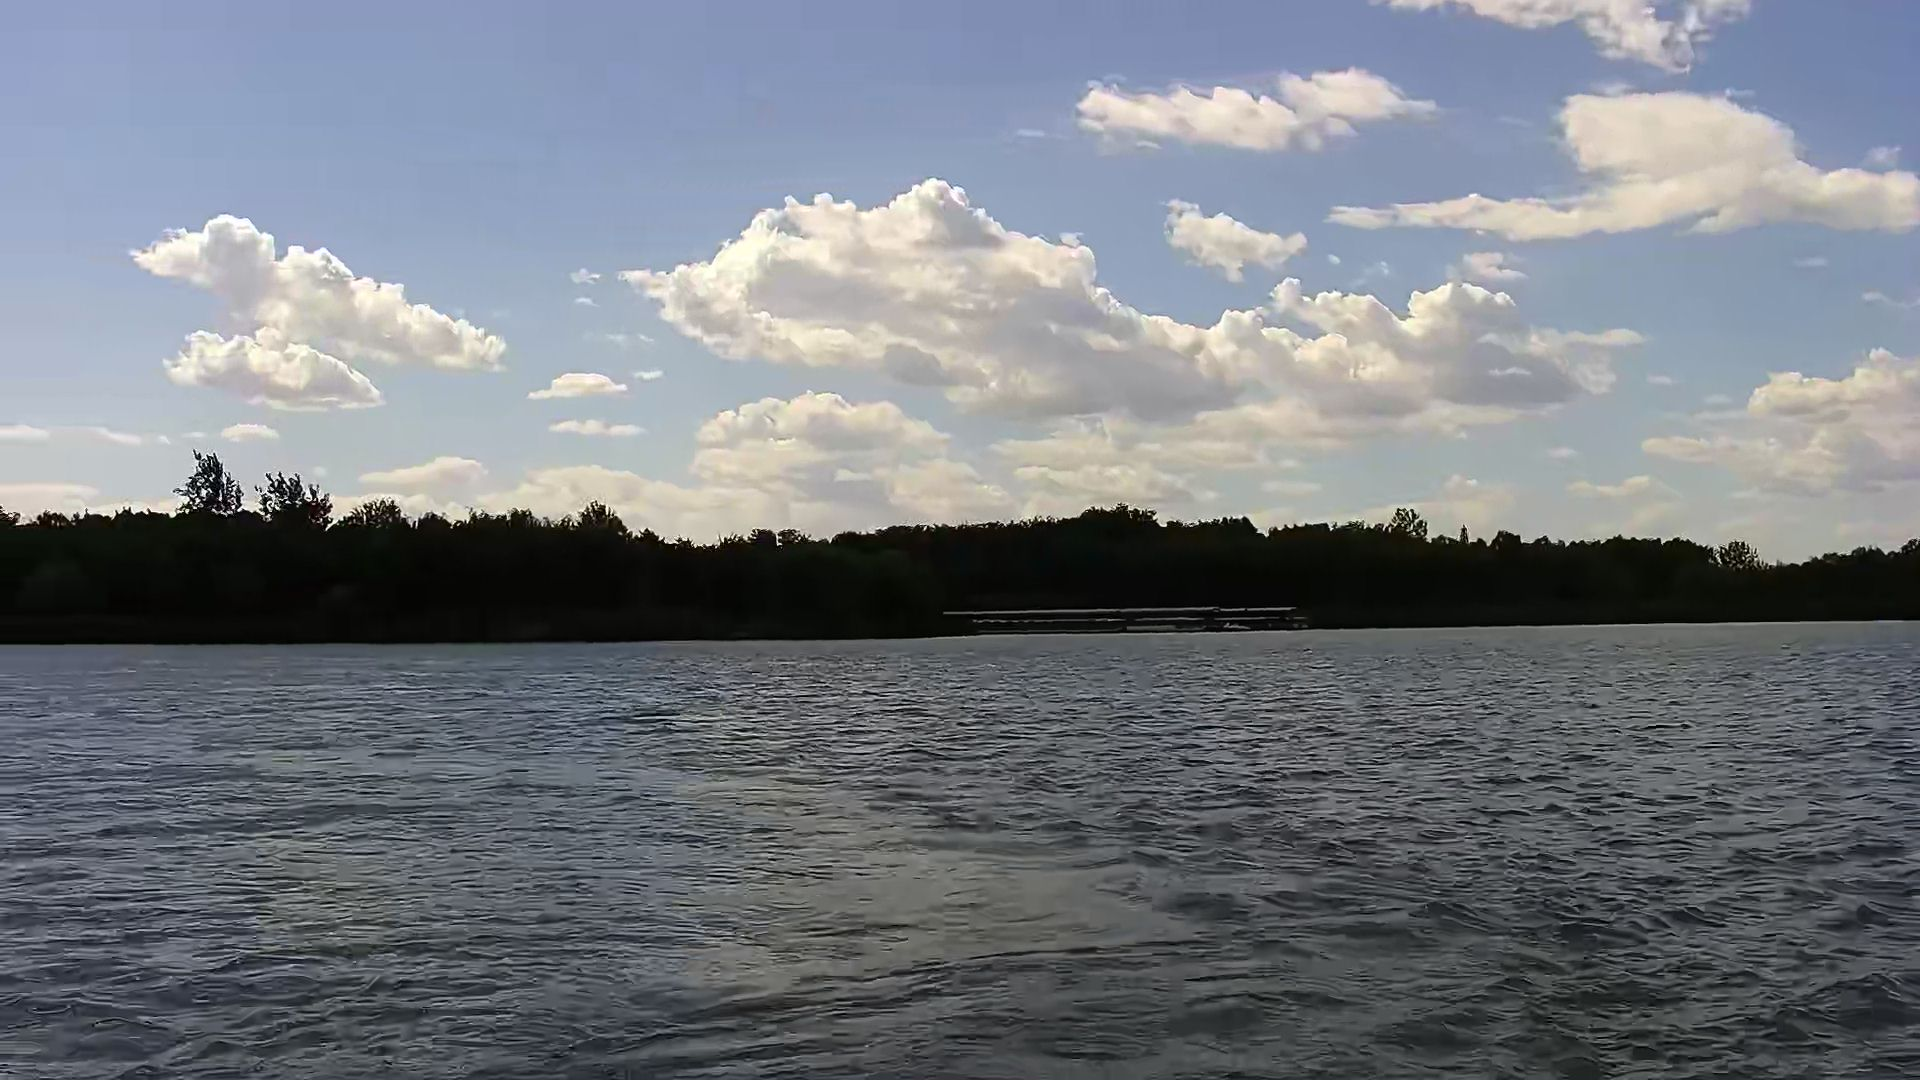harbor: (948, 607, 1307, 640)
